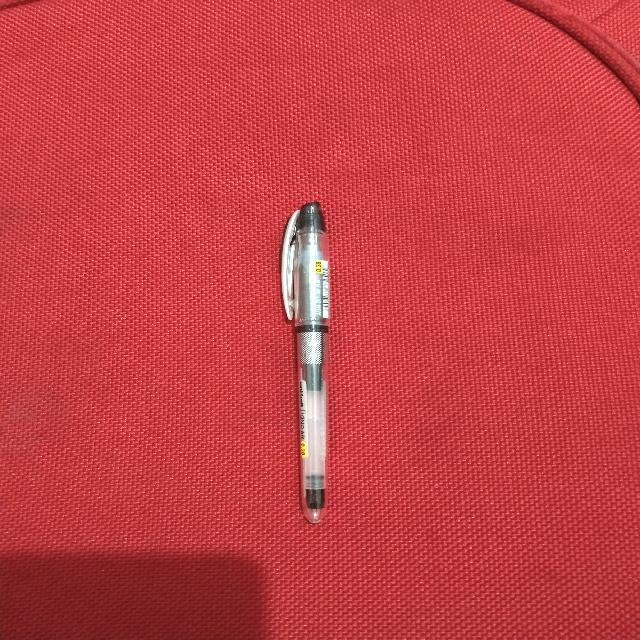pen: (281, 202, 328, 522)
